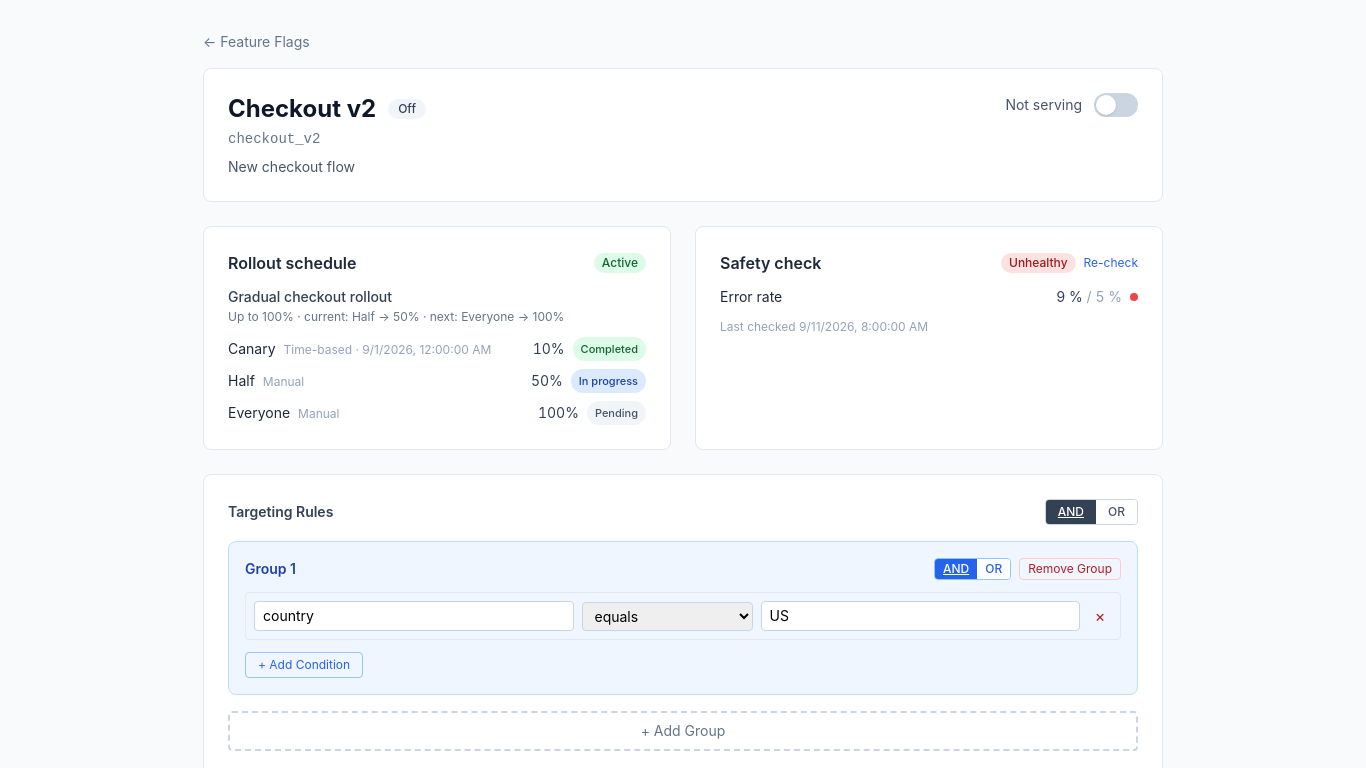
Test: FeatureFlagDetailPage › shows Unhealthy when the safety check fails a threshold and re-checks on demand
Expected: the text with test id "safety-status" reads "Unhealthy", top-left (1009, 255), bottom-right (1068, 270)
Click the button with test id "safety-recheck" at (1111, 263), box top-left (1084, 255), bottom-right (1138, 271)
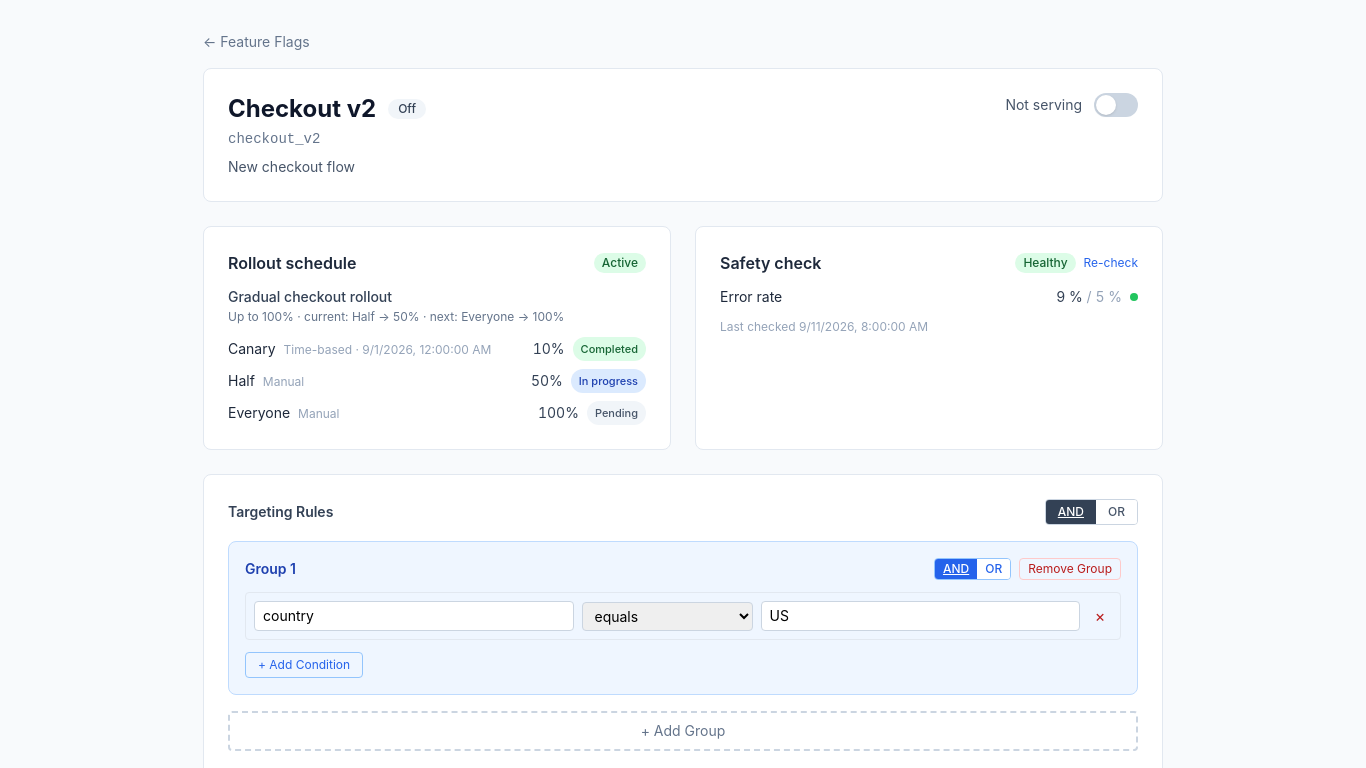
Result: the text with test id "safety-status" reads "Healthy" at top-left (1023, 255), bottom-right (1068, 270)
